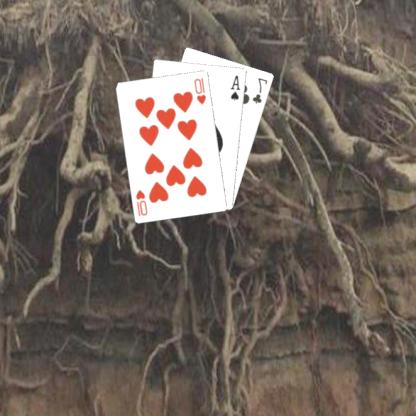10H: (135, 186, 151, 218), (194, 74, 209, 106)
7C: (251, 75, 271, 105)
AS: (230, 72, 244, 102)
